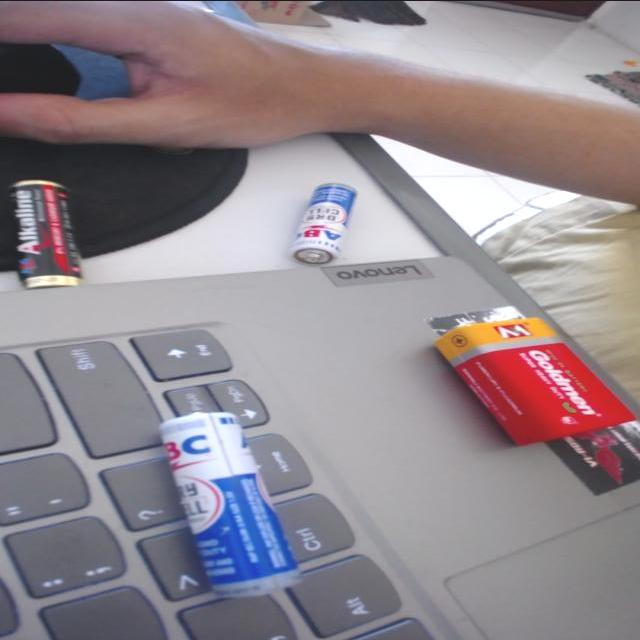9V: (408, 294, 618, 453)
AA: (127, 396, 286, 601), (9, 170, 96, 303)
